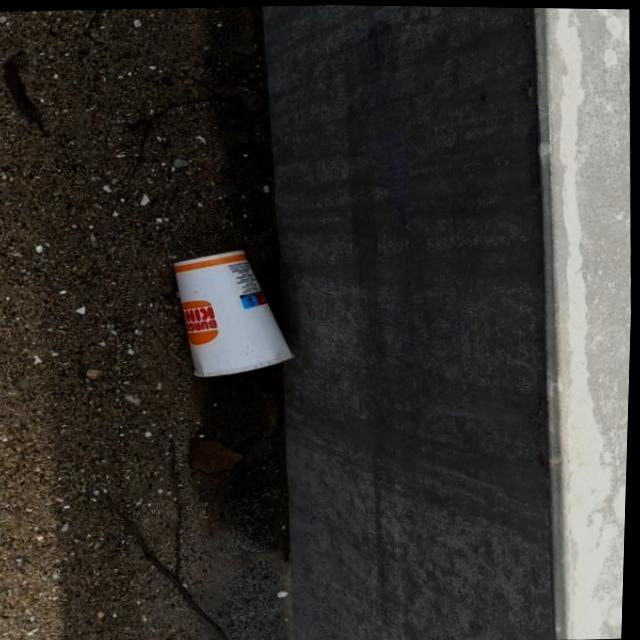Cup: (169, 244, 302, 380)
